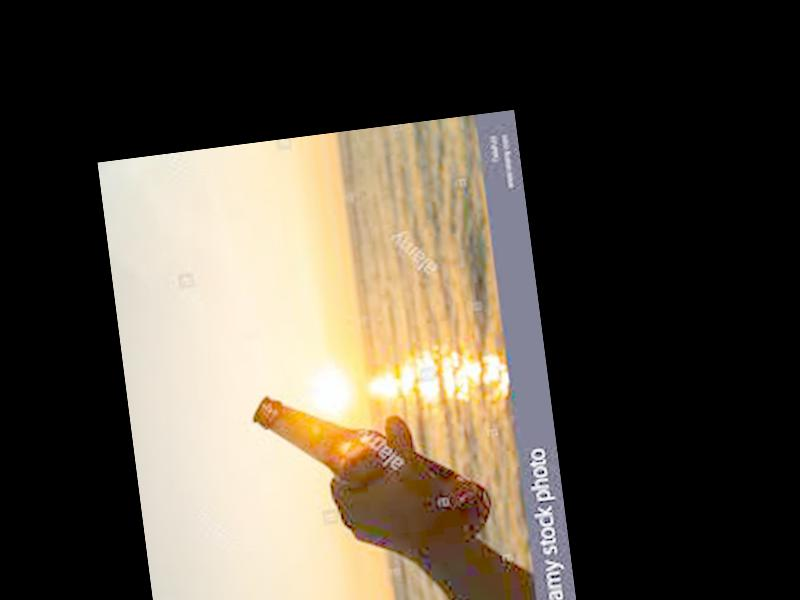Beer: (246, 370, 496, 567)
